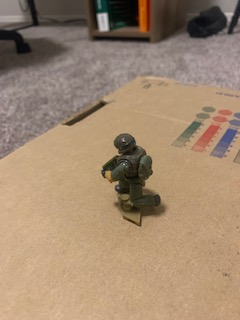soldier: (98, 131, 167, 217)
